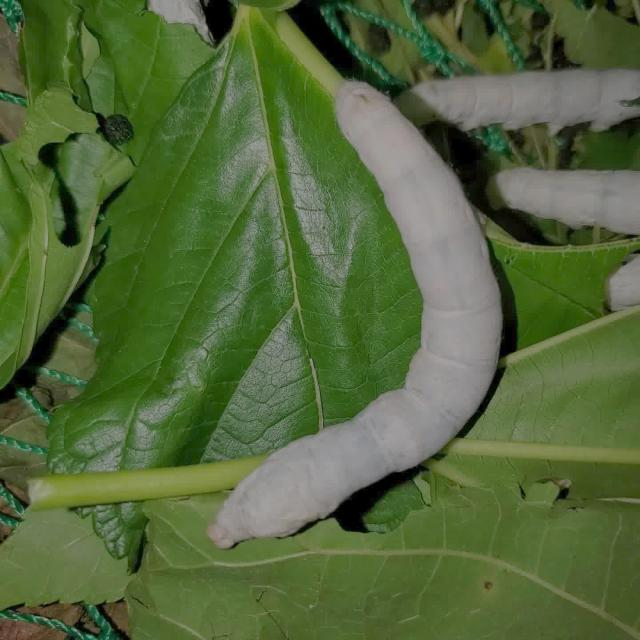Healthy: (196, 80, 511, 551)
